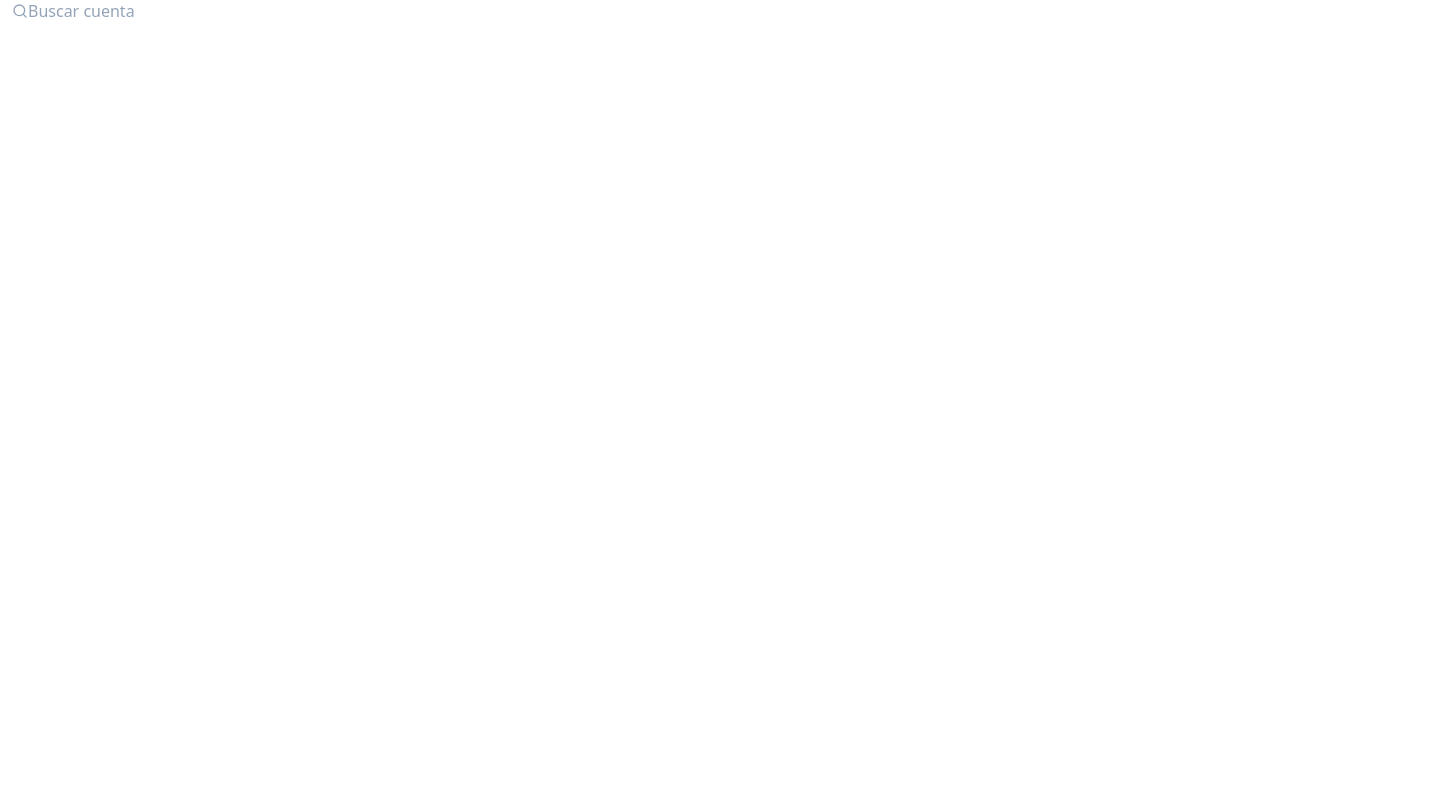
Test: CuentaContableCombobox › mantiene el prefijo de cuenta al paginar una búsqueda numérica
The width and height of the screenshot is (1440, 810).
In the dropdown: (720, 11) 0,0 -> 1439,22, type "602"
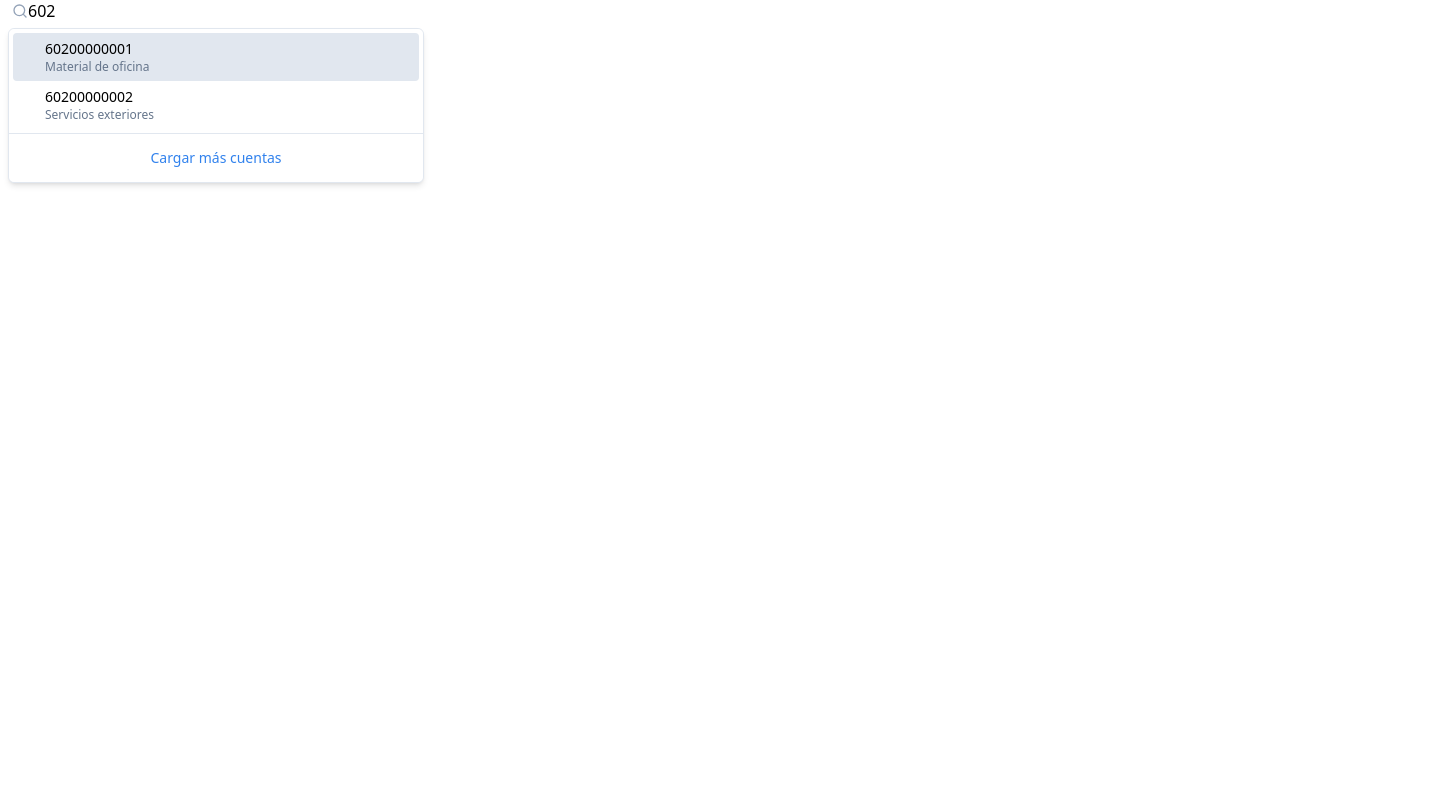
Click the button "Cargar más cuentas": (216, 158) 17,142 -> 415,174
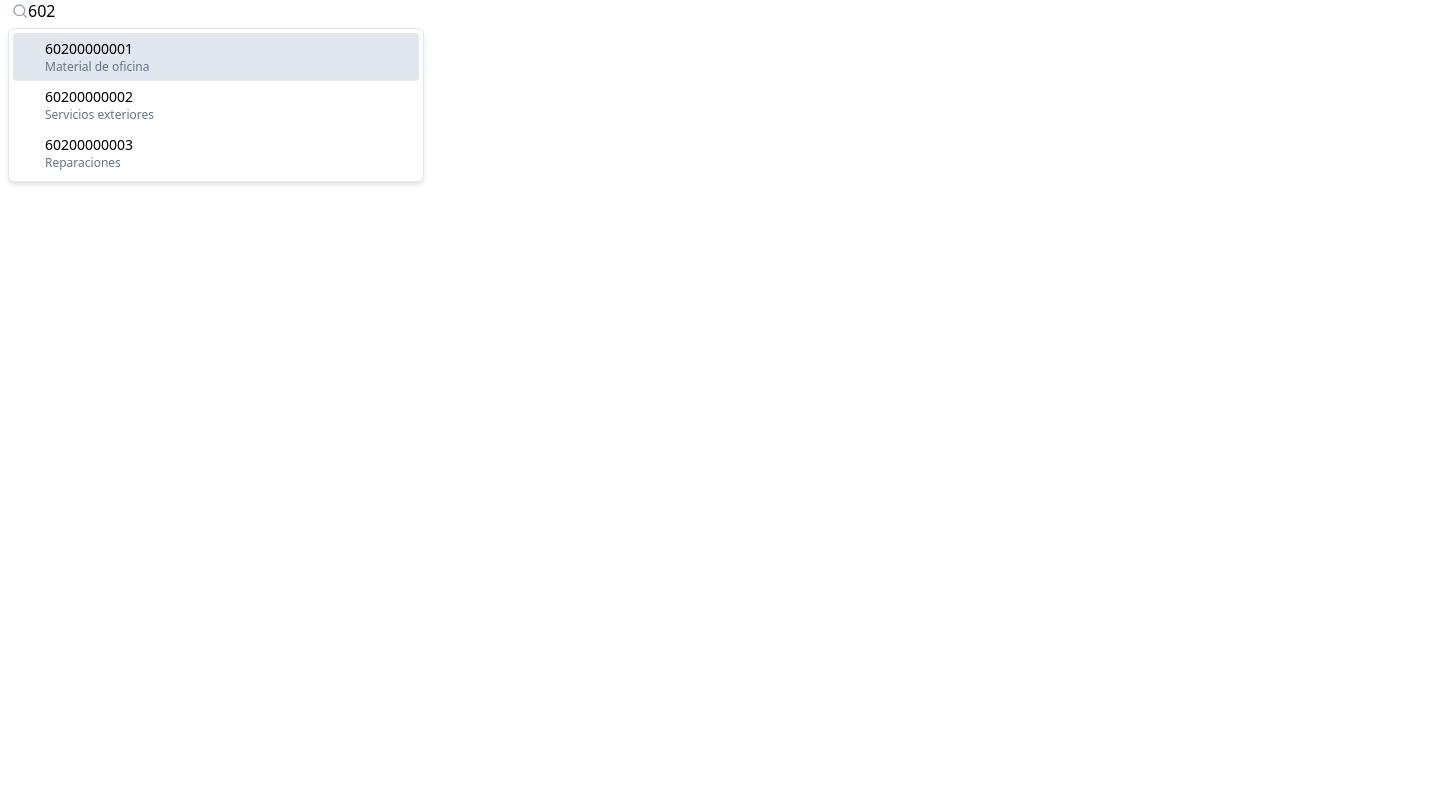
Check: the text "Reparaciones" is shown, box 45,155 -> 133,171
